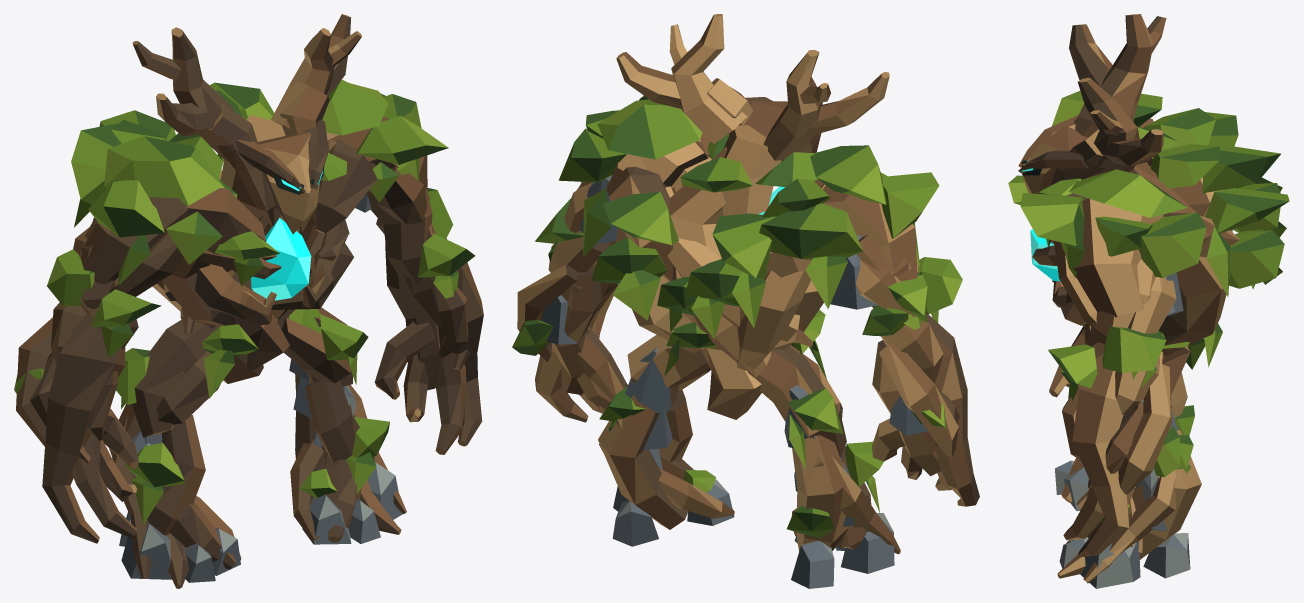
The model's file is tide-root-colossus-complete-pass4.glb.
3 views of the same model, side by side, from view 1: azimuth 30°, elevation 25°; view 2: azimuth 150°, elevation 25°; view 3: azimuth 270°, elevation 25° (orthographic). The views are drawn at different scales.
Parts seen in each view (by area): view 1: Forearm main to outer claw -1, Left scapula saddle, Thigh load root -1, Forearm main to outer claw 1, Calf crossing root -1, Right clavicle cascade, Long tapered bark mask, Outer shoulder root -1, Left shoulder outer fall, Calf crossing root 1, Crown cheek flow -1, Exposed turquoise heart (+75 smaller); view 2: Calf rear load 1, Right high shoulder island, Left shoulder rear fold, Crown right main, Rear diagonal trunk, Forearm main to outer claw -1, Flank bowed trunk -1, Calf rear load -1, Forearm root split -1, Thigh load root -1, Outer shoulder root -1, Neck rear root (+63 smaller); view 3: Forearm main to outer claw 1, Outer shoulder root 1, Flank bowed trunk 1, Forearm root split 1, Right rear outer fall, Right high shoulder island, Crown left main, Right shoulder front fold, Right lower back island, Right rear ridge growth, Lower leg lateral root 1, Right elbow outer island (+49 smaller).
Part boxes in pixels (x1,y1,x2,y2): Forearm main to outer claw -1: [42, 314, 125, 543]; Left scapula saddle: [104, 136, 224, 206]; Thigh load root -1: [131, 319, 219, 437]; Forearm main to outer claw 1: [403, 262, 483, 446]; Calf crossing root -1: [147, 415, 205, 535]; Right clavicle cascade: [313, 139, 377, 233]; Long tapered bark mask: [257, 132, 319, 234]; Outer shoulder root -1: [80, 197, 188, 284]; Left shoulder outer fall: [88, 180, 164, 237]; Calf crossing root 1: [305, 380, 374, 462]; Crown cheek flow -1: [201, 103, 274, 226]; Exposed turquoise heart: [251, 218, 311, 300]; Calf rear load 1: [598, 395, 688, 529]; Right high shoulder island: [597, 99, 702, 159]; Left shoulder rear fold: [759, 203, 862, 259]; Crown right main: [671, 14, 747, 143]; Rear diagonal trunk: [668, 147, 770, 377]; Forearm main to outer claw -1: [926, 314, 979, 506]; Flank bowed trunk -1: [737, 270, 810, 371]; Calf rear load -1: [792, 435, 849, 551]; Forearm root split -1: [879, 342, 958, 457]; Thigh load root -1: [747, 346, 846, 457]; Outer shoulder root -1: [814, 179, 917, 281]; Neck rear root: [722, 125, 781, 215]; Forearm main to outer claw 1: [1072, 359, 1129, 556]; Outer shoulder root 1: [1073, 198, 1163, 317]; Flank bowed trunk 1: [1158, 256, 1229, 355]; Forearm root split 1: [1118, 364, 1172, 494]; Right rear outer fall: [1138, 212, 1206, 277]; Right high shoulder island: [1069, 169, 1187, 217]; Crown left main: [1087, 14, 1153, 137]; Right shoulder front fold: [1020, 193, 1084, 245]; Right lower back island: [1229, 230, 1284, 288]; Right rear ridge growth: [1205, 188, 1289, 233]; Lower leg lateral root 1: [1083, 459, 1190, 583]; Right elbow outer island: [1102, 326, 1166, 372].
Bounding box in the file's own units: 5.39 × 6 × 3.17.
